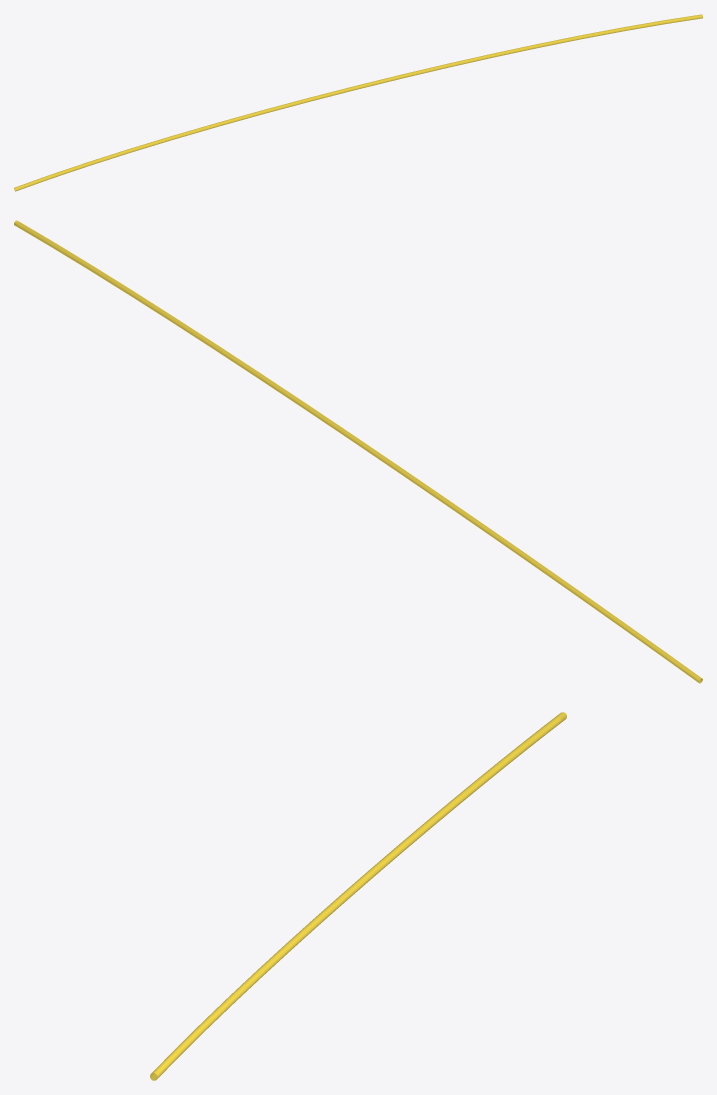
Rendered from Event_17758602_track_7.fbx.
3 renders of one model, top to bottom at view 1: azimuth 30°, elevation 25°; view 2: azimuth 150°, elevation 25°; view 3: azimuth 270°, elevation 25°, orthographic. The views are drawn at different scales.
Visible parts, largest first — view 1: Model; view 2: Model; view 3: Model.
Part boxes in pixels (<box>): Model: <box>14,14,702,191</box>; Model: <box>14,220,702,683</box>; Model: <box>150,712,566,1080</box>.
Bounding box in the file's own units: 6.58 × 1.17 × 2.02.
